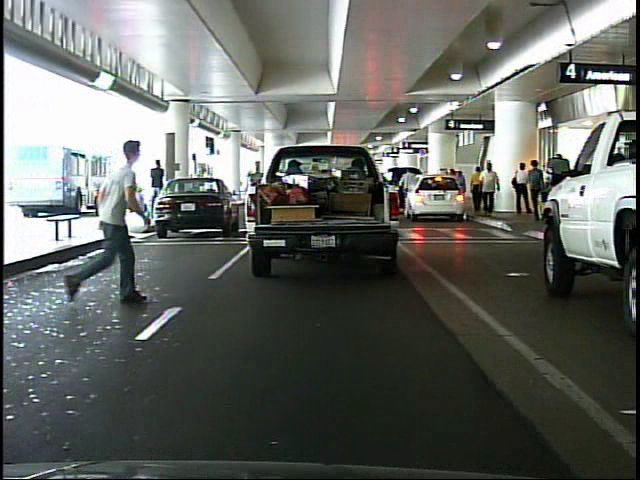person: (69, 128, 169, 319), (471, 156, 498, 222), (513, 156, 535, 218), (147, 157, 169, 219), (468, 160, 485, 220), (531, 158, 545, 225)
